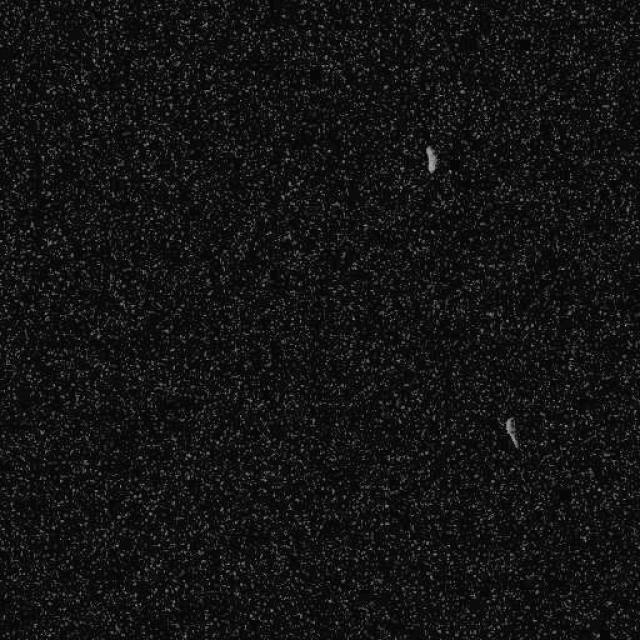D2: (502, 415, 520, 449), (423, 144, 438, 172)
